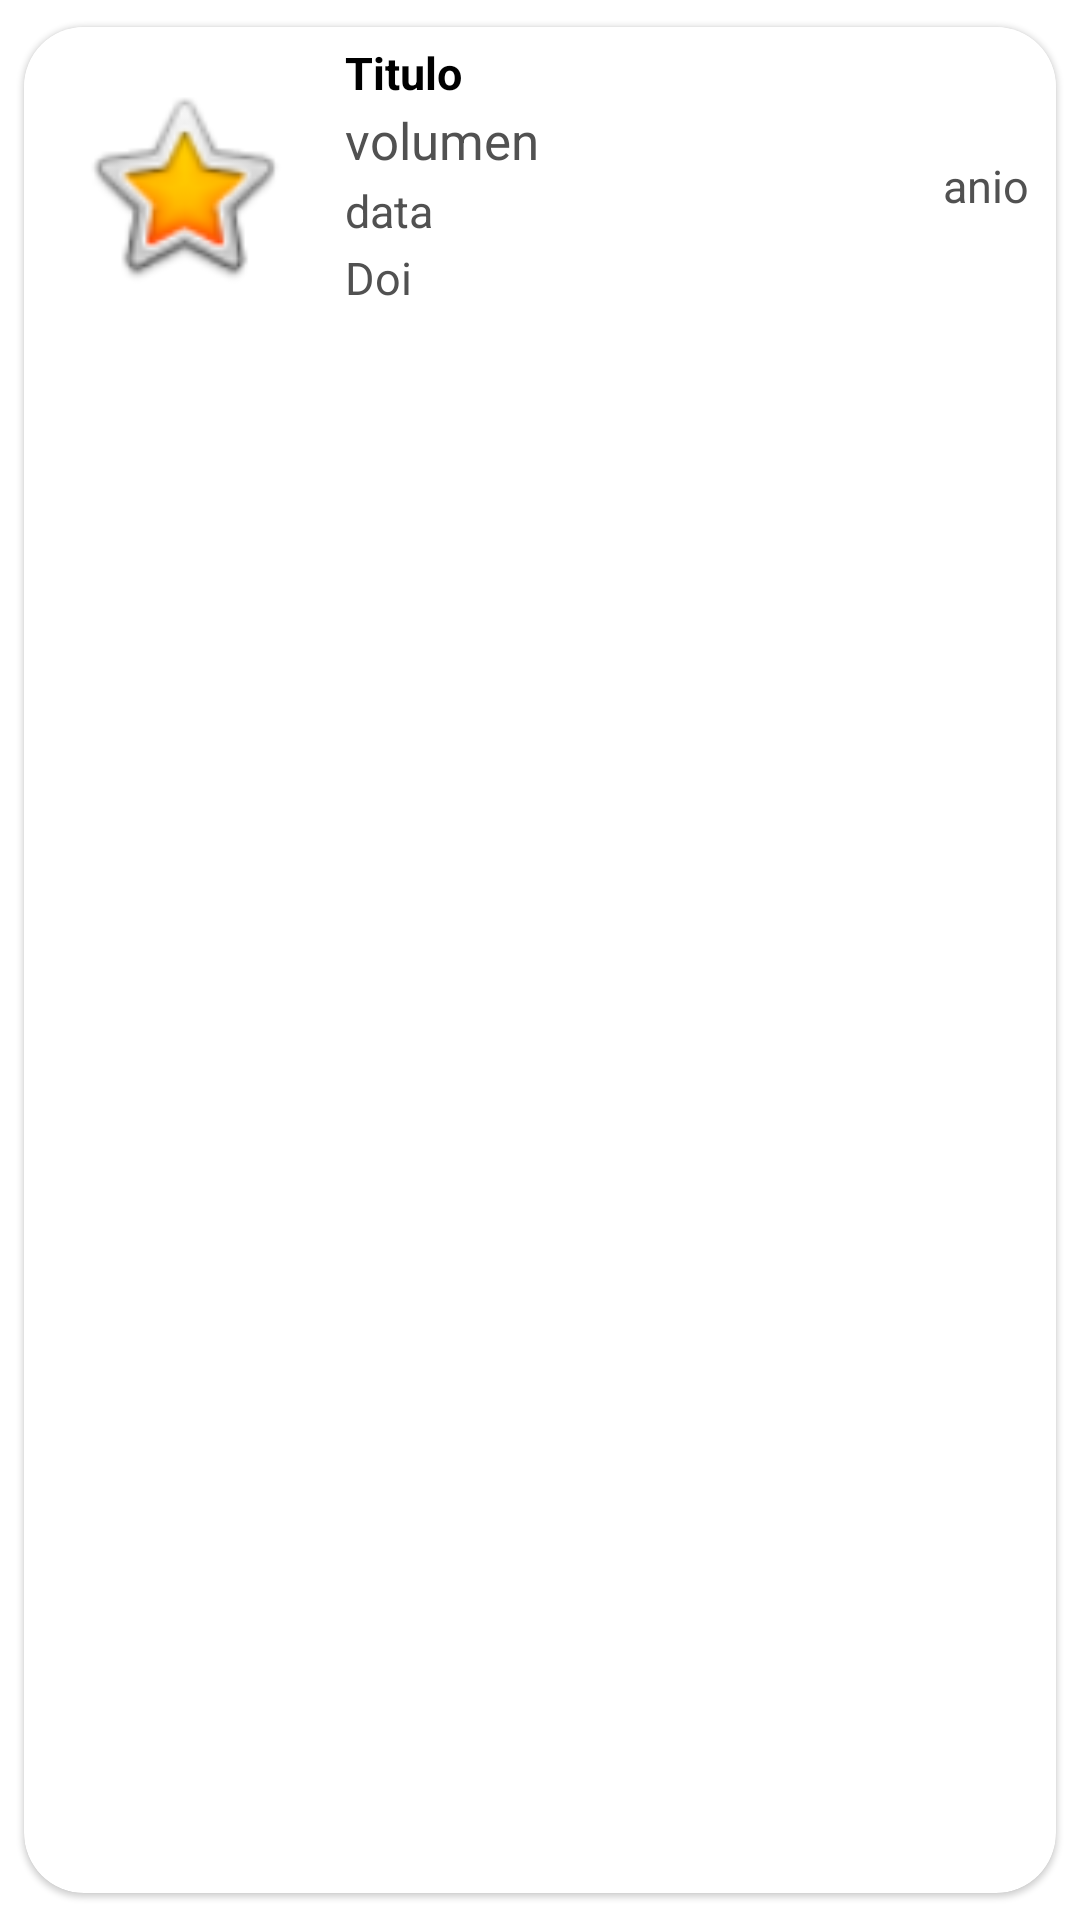

Icon bounding boxes for this 1080px x 1920px phone screenshot, format (x1, y1, x2, y2):
star on: (33, 39, 275, 276)
